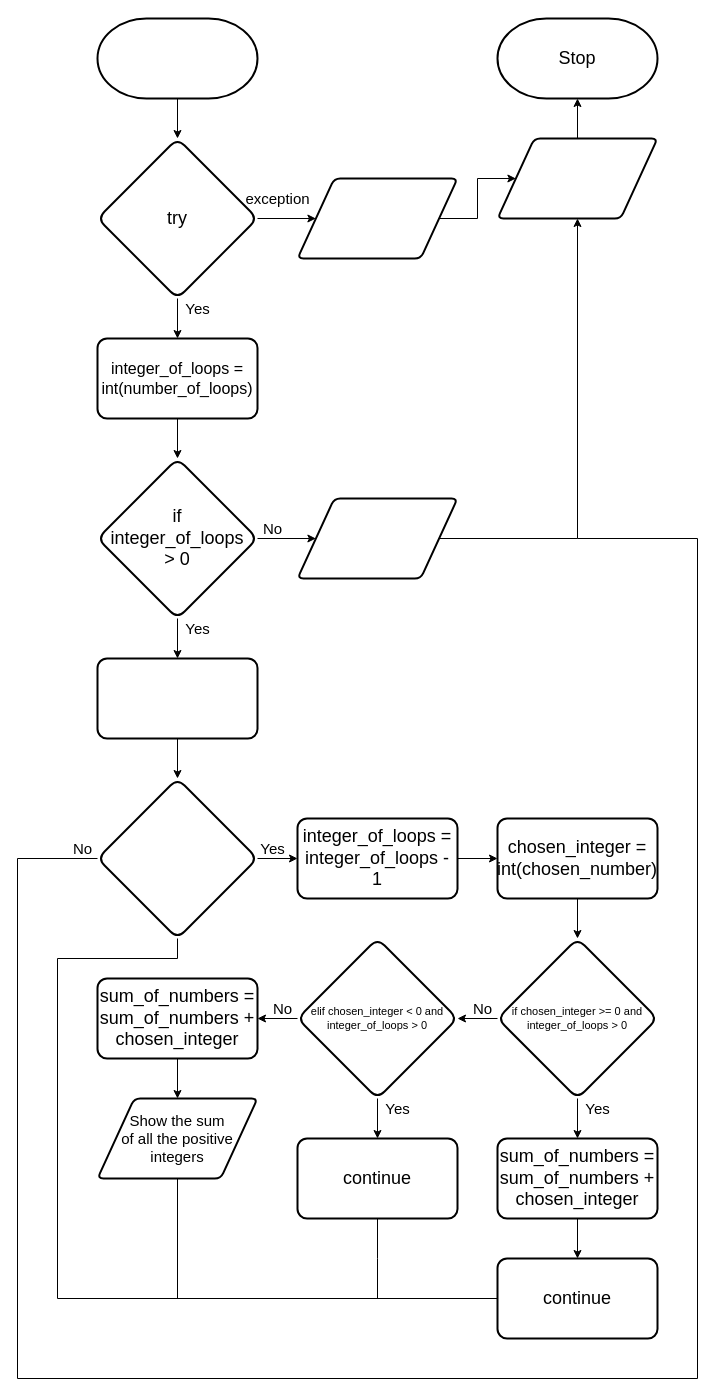
This 716x1397 diagram has some shape labels left out. The shapes that lost their labels are listed below. From the top down, each one's centre as x and y in pixels, then its label:
(177,58): Start
(577,178): Show the program as done
(377,218): Show the input as not an integer
(377,538): Show the input as not a positive integer
(177,698): sum_of_numbers = 0
(177,858): while not integer_of_loops == 0
